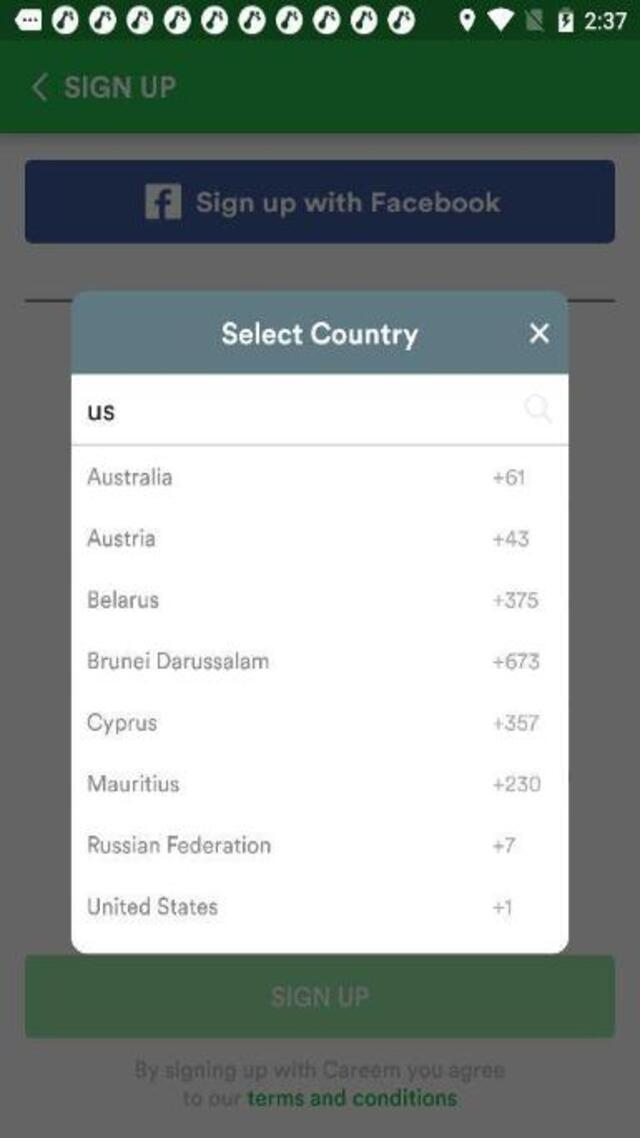Icon: (144, 180, 182, 221), (522, 392, 554, 422), (526, 320, 551, 345), (31, 72, 49, 102)
Text: (191, 188, 509, 219), (131, 1058, 508, 1084), (221, 320, 420, 352), (180, 1088, 462, 1110), (88, 833, 274, 854), (89, 650, 270, 670), (64, 74, 175, 100), (268, 982, 371, 1010), (88, 894, 218, 915), (88, 772, 181, 793), (85, 466, 174, 486), (86, 711, 156, 736), (86, 587, 160, 608), (86, 526, 156, 548), (494, 649, 540, 670), (493, 772, 541, 792), (494, 710, 540, 730), (494, 589, 540, 609), (494, 529, 530, 549), (492, 468, 524, 486), (88, 404, 116, 424), (491, 835, 516, 851), (493, 897, 511, 917)
TextButton: (23, 158, 615, 244), (23, 954, 615, 1038)
